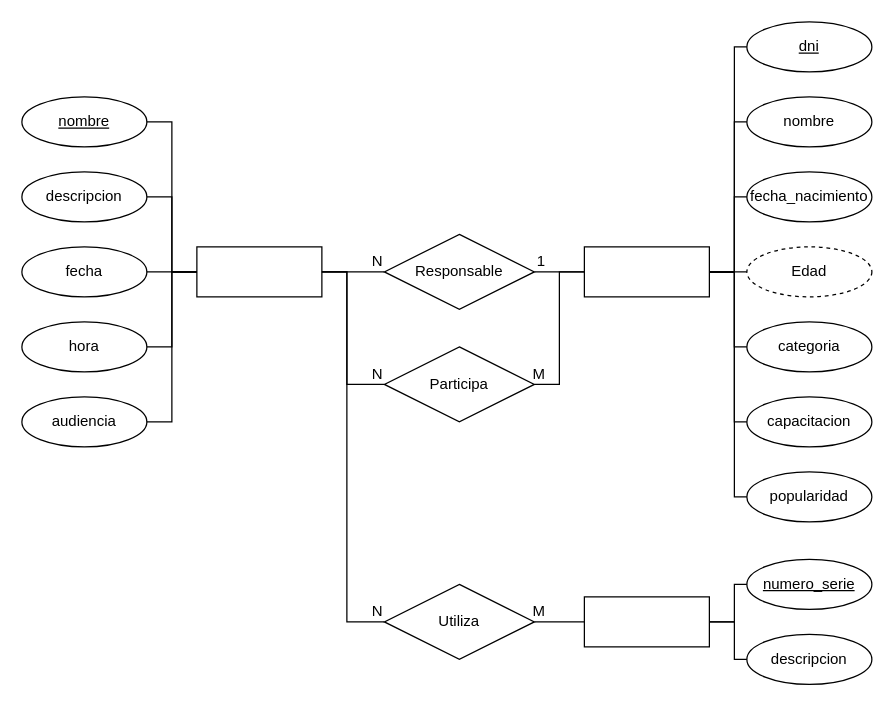
The diagram is 894 pixels wide and 706 high, and some of its shapes have lost their labels. Here are the shapes that lost their labels. From the top down, the centre of each, then its label:
point 259,271: programa
point 646,271: medio_humano
point 646,621: medio_material
